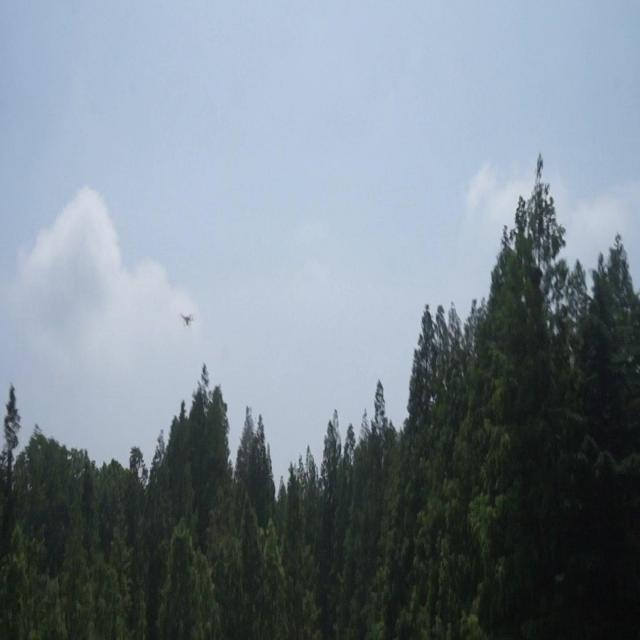UAV: (181, 314, 194, 326)
